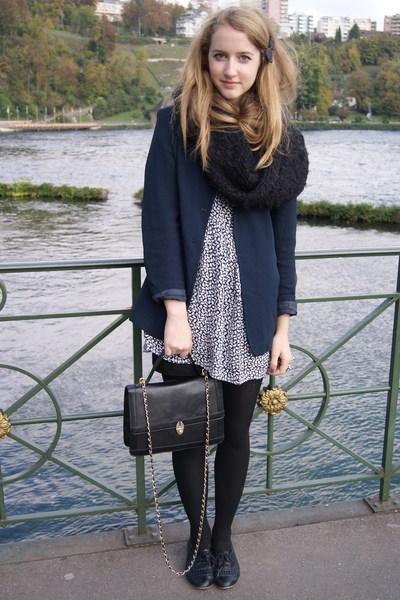bag: (108, 348, 227, 467)
dress: (143, 202, 264, 383)
jacket: (110, 86, 323, 371)
shoe: (184, 550, 239, 587)
